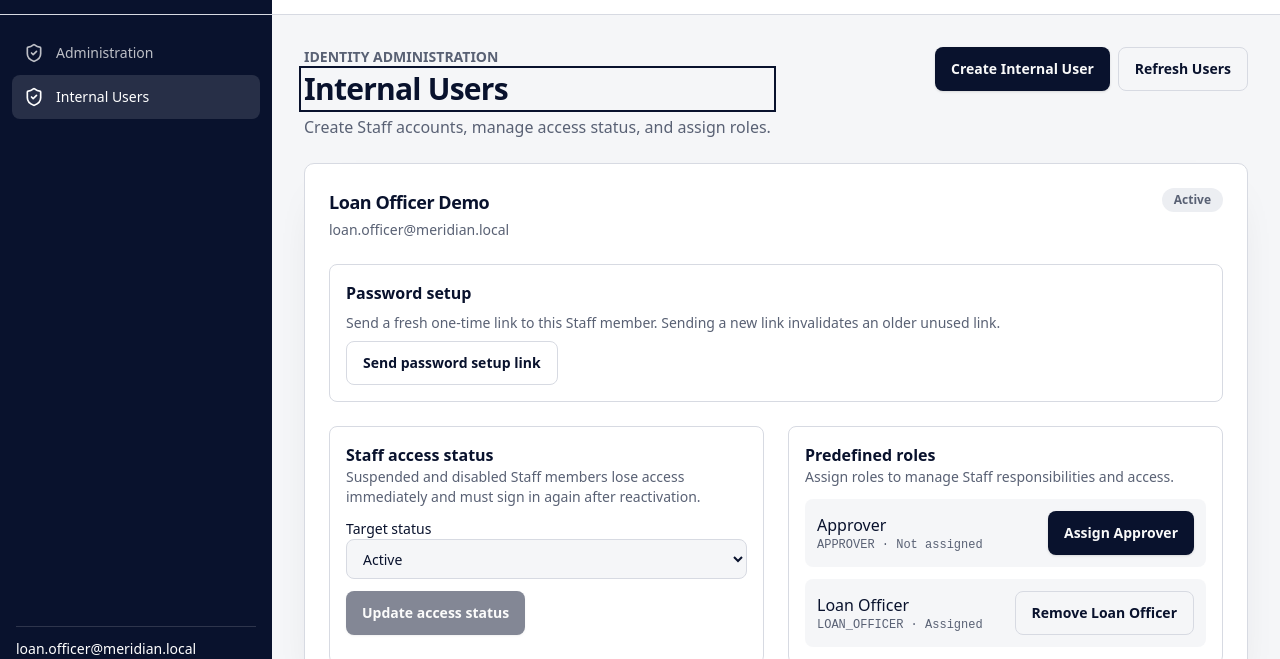
Test case: Internal User administration page › creates a Staff User with backend roles and refreshes the authoritative list without a password field
Expected: the heading "Loan Officer Demo" is shown, [329,188,509,216]
Click the button "Create Internal User": x=1022, y=69 [935,47,1110,91]
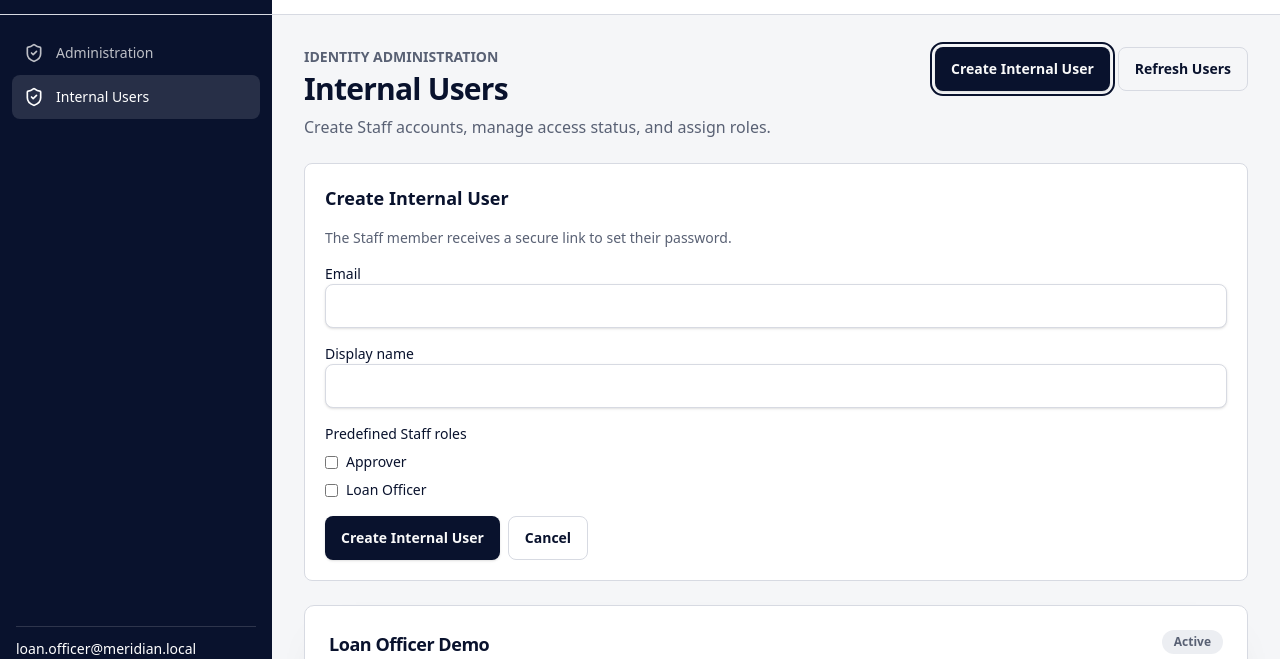
Result: the text "The Staff member receives a secure link to set their password." is shown at [325,228,732,247]
In the field labelled "Email": x=776, y=306 [325,284,1227,328], type "NEW@MERIDIAN.LOCAL"
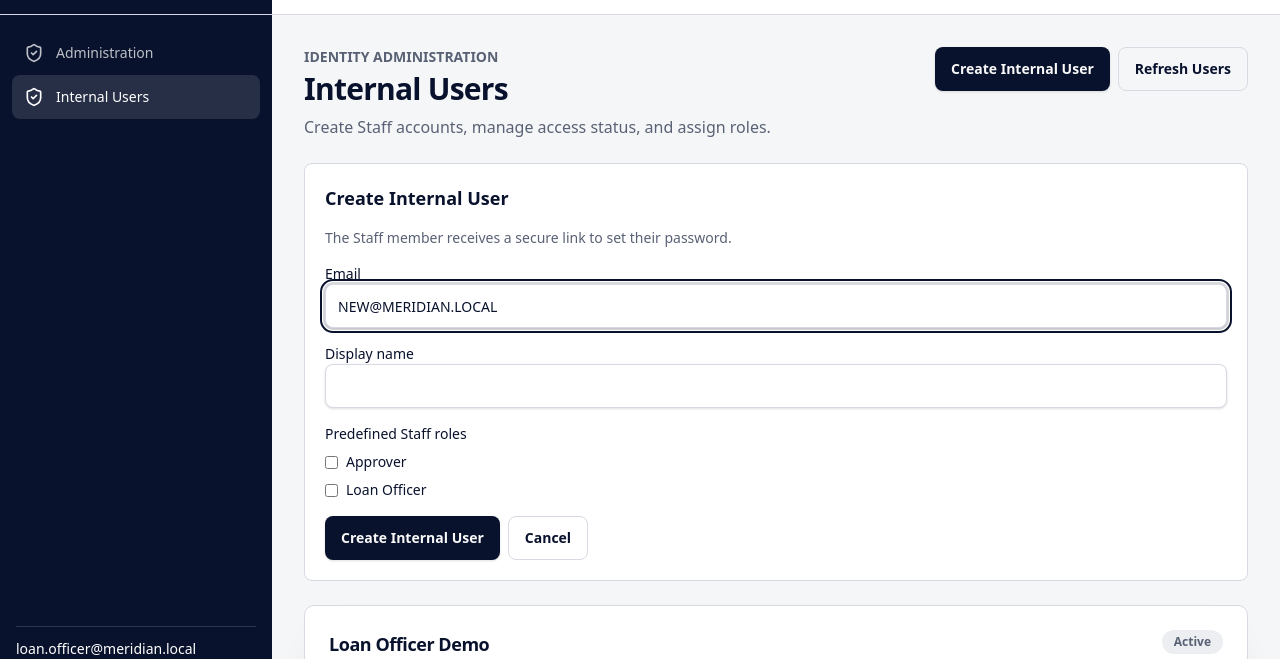
In the field labelled "Display name": x=776, y=386 [325,364,1227,408], type "New Staff"
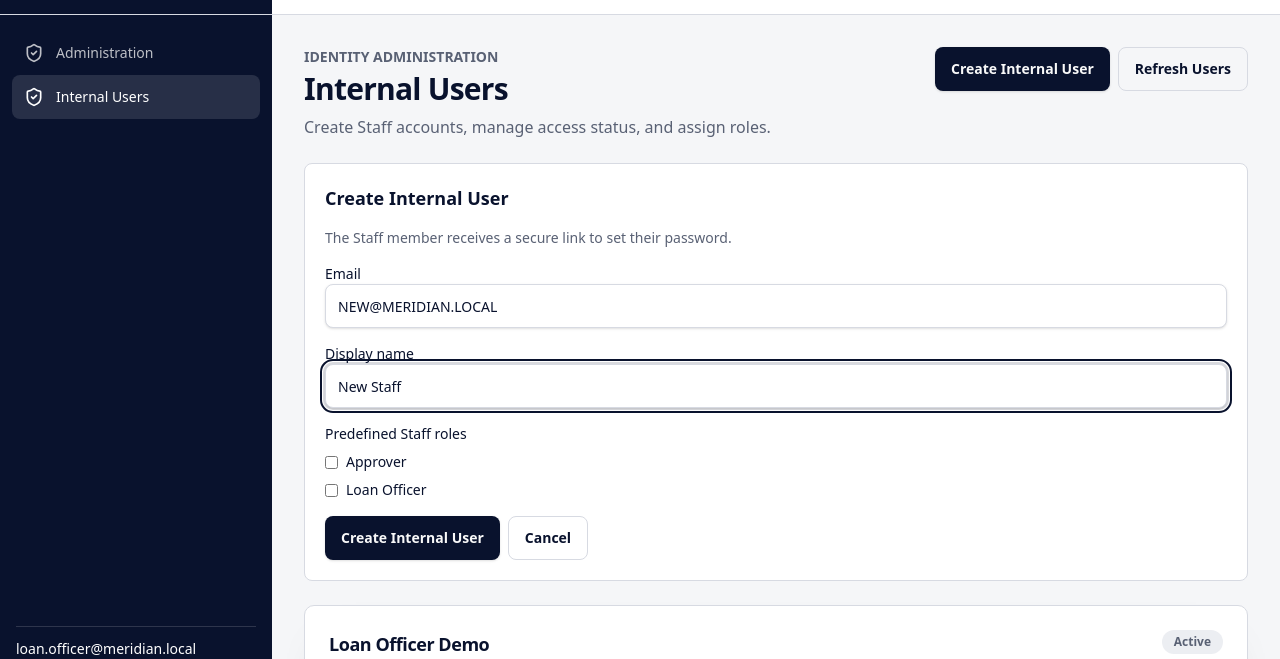
Click the checkbox labelled "Approver": x=332, y=462 [325,456,338,468]
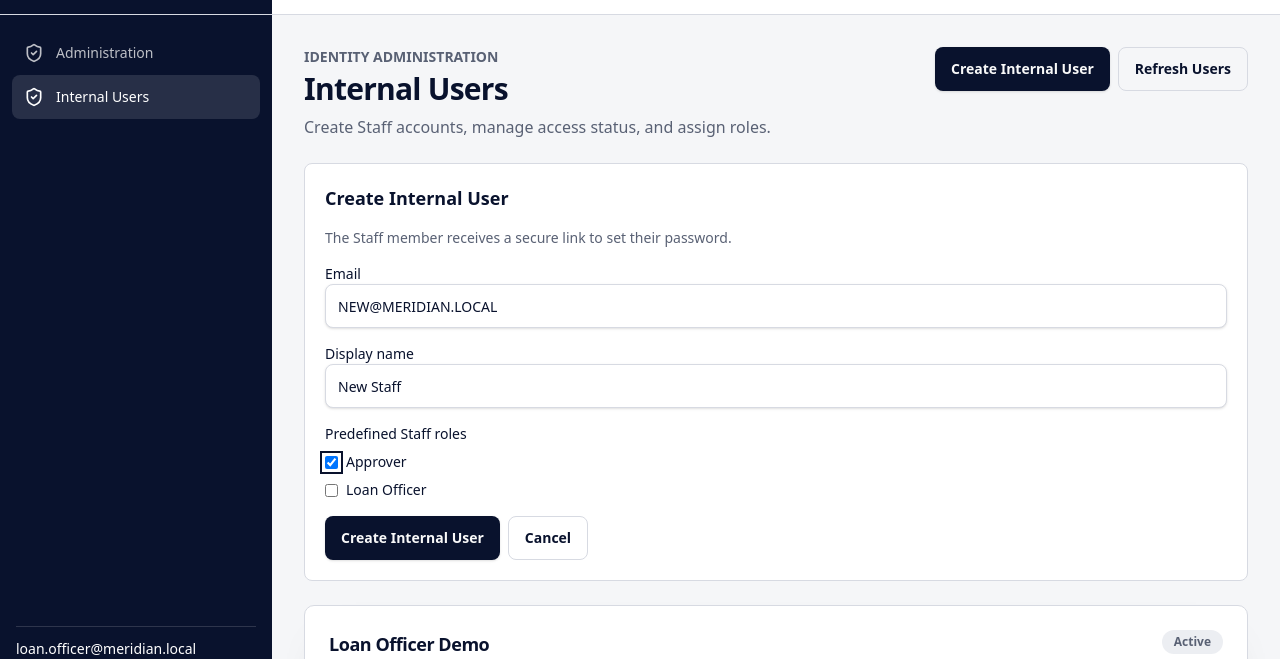
Click the button "Create Internal User" below "Predefined Staff roles": x=412, y=538 [325,516,500,560]
(page scrolled)
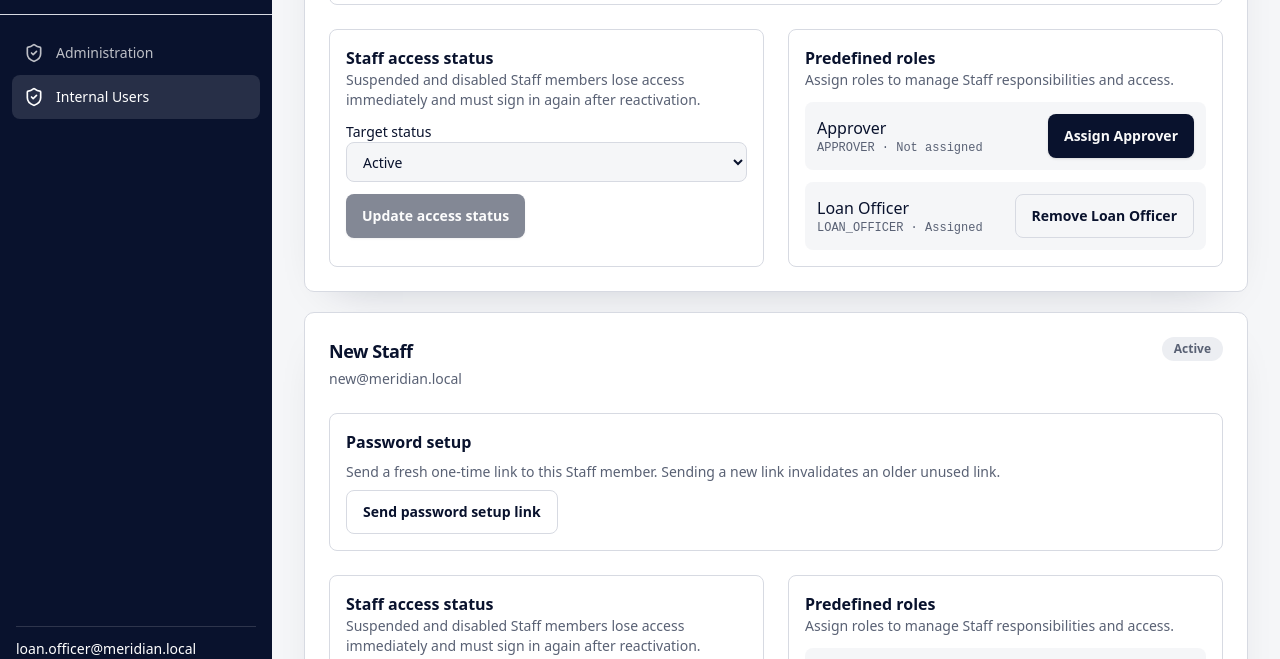
Result: the heading "New Staff" is shown at [329,339,412,363]
